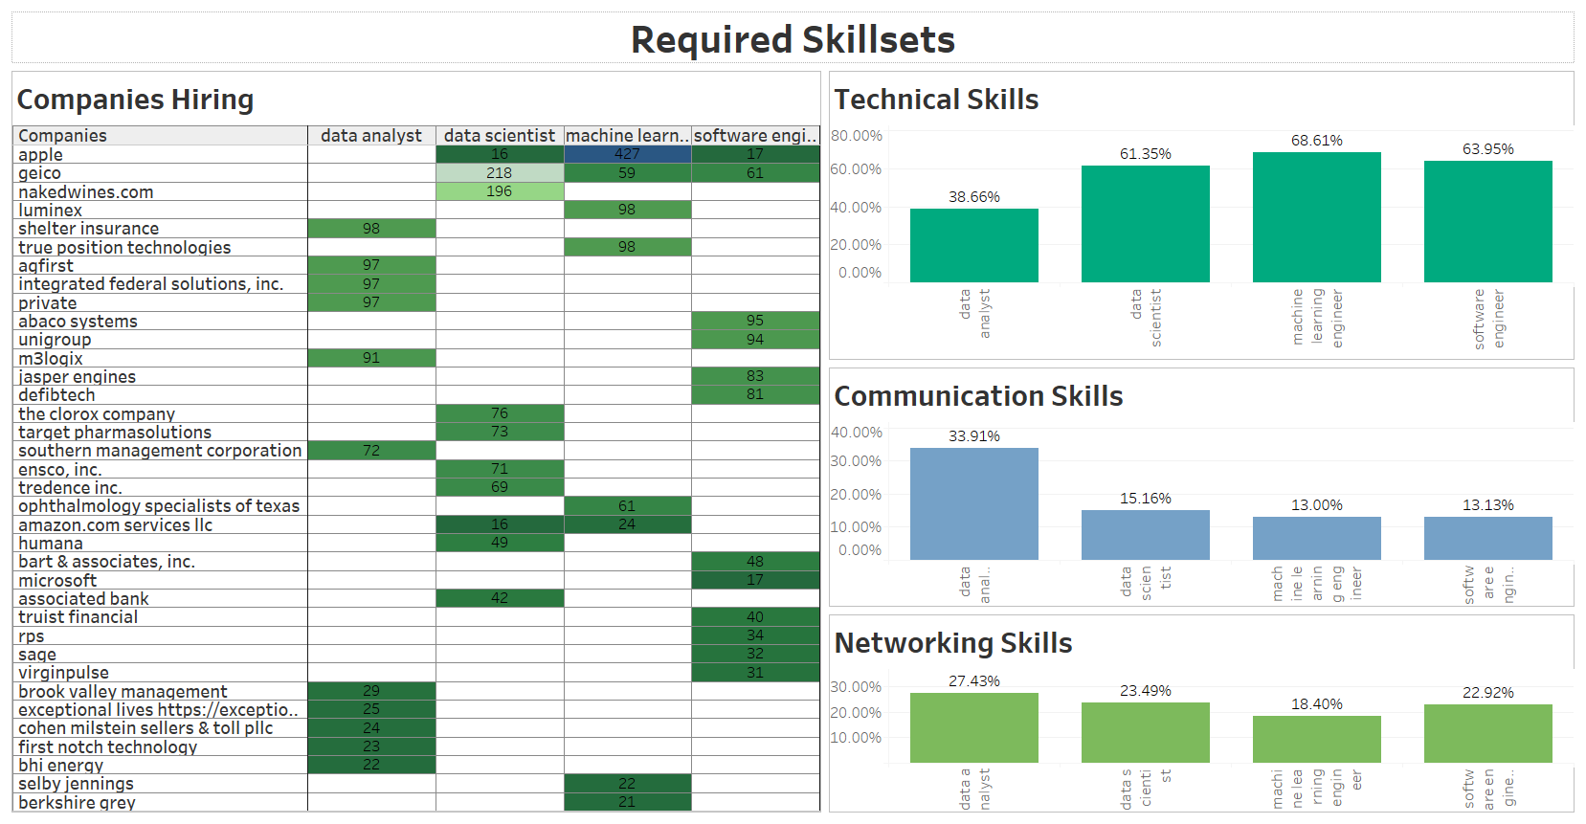

Layout of this report page (visuals, bound fields, positions):
{"tool":"tableau","page":{"name":"Required Skillsets","canvas":[1000,1000],"units":"permille","ordinal":1},"visuals":[{"type":"worksheet","box":[0,0,1000,1000]},{"type":"worksheet","param":"vert","box":[4.8,9.3,990.3,981.4]},{"type":"worksheet","box":[4.8,9.3,990.3,72]},{"type":"worksheet","param":"horz","box":[4.8,81.3,990.3,909.4]},{"type":"worksheet","param":"horz","box":[4.8,81.3,990.3,909.4]},{"type":"worksheet","param":"horz","box":[4.8,81.3,990.3,909.4]},{"type":"worksheet","box":[4.8,81.3,990.3,909.4]},{"type":"worksheet","title":"roles hired by companies","mark":"Square","rows":["Calculation_1451566513569865728"],"cols":["role"],"box":[4.8,81.3,515.3,909.4]},{"type":"worksheet","title":"Technical Skills","mark":"Bar","rows":["Comm Skills % (copy)_1451566513578504195"],"cols":["role"],"box":[520.2,81.3,475,360.3]},{"type":"worksheet","title":"Communication Skills","mark":"Bar","rows":["Calculation_1451566513576427521"],"cols":["role"],"box":[520.2,441.6,475,299.3]},{"type":"worksheet","title":"Networking Skills","mark":"Bar","rows":["Comm Skills % (copy)_1451566513578655748"],"cols":["role"],"box":[520.2,740.9,475,249.8]}]}

Visuals, with their boxes on the dashboard's canvas, which has no fixed pixel size, in thousandths of its width and height (x1, y1, x2, y2). These are canvas units, not pixel positions in the 1586x824 screenshot, which may show the page scaled, cropped or inside an application window:
worksheet: Rect(0, 0, 1000, 1000)
worksheet: Rect(5, 9, 995, 991)
worksheet: Rect(5, 9, 995, 81)
worksheet: Rect(5, 81, 995, 991)
worksheet: Rect(5, 81, 995, 991)
worksheet: Rect(5, 81, 995, 991)
worksheet: Rect(5, 81, 995, 991)
"roles hired by companies" worksheet (Square marks): Rect(5, 81, 520, 991)
"Technical Skills" worksheet (Bar marks): Rect(520, 81, 995, 442)
"Communication Skills" worksheet (Bar marks): Rect(520, 442, 995, 741)
"Networking Skills" worksheet (Bar marks): Rect(520, 741, 995, 991)
